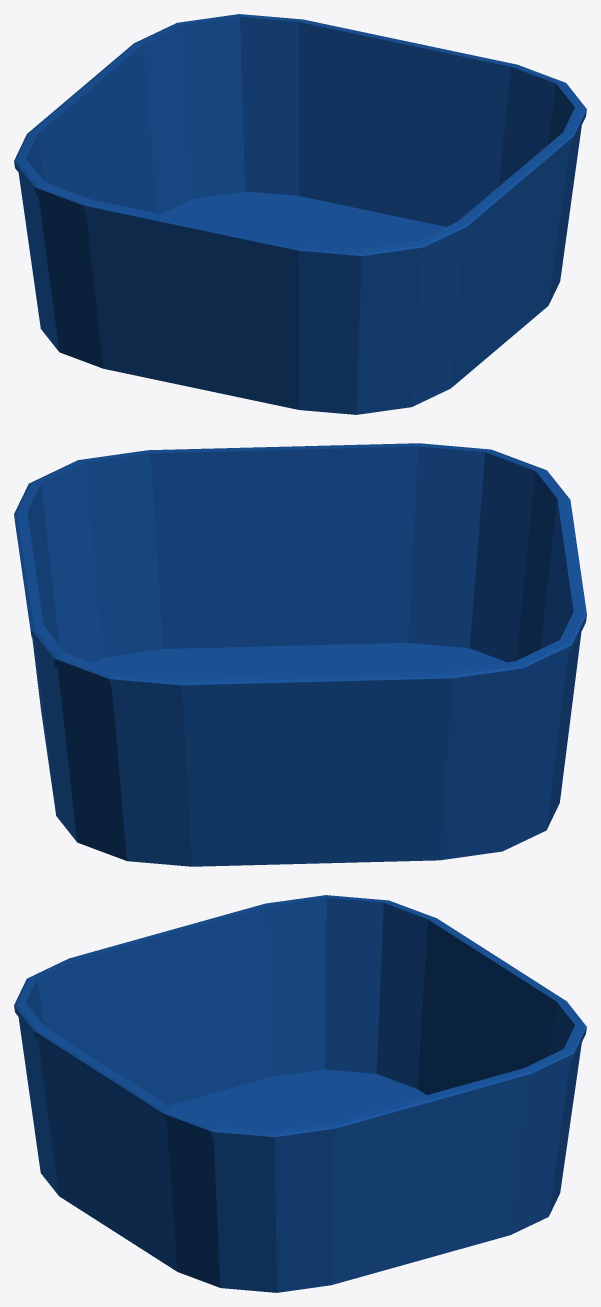
File: tachito Helado_Rooftop.fbx
3 views of the same model, one above another, from view 1: azimuth 30°, elevation 25°; view 2: azimuth 150°, elevation 25°; view 3: azimuth 270°, elevation 25° (orthographic). The views are drawn at different scales.
Visible parts, largest first — view 1: tachito_Helado; view 2: tachito_Helado; view 3: tachito_Helado.
Part boxes in pixels (x1,y1,x2,y2): tachito_Helado: [14, 14, 586, 414]; tachito_Helado: [14, 443, 586, 866]; tachito_Helado: [14, 895, 586, 1292].
Size of the model in its own units: 0.3 by 0.0978 by 0.3.
